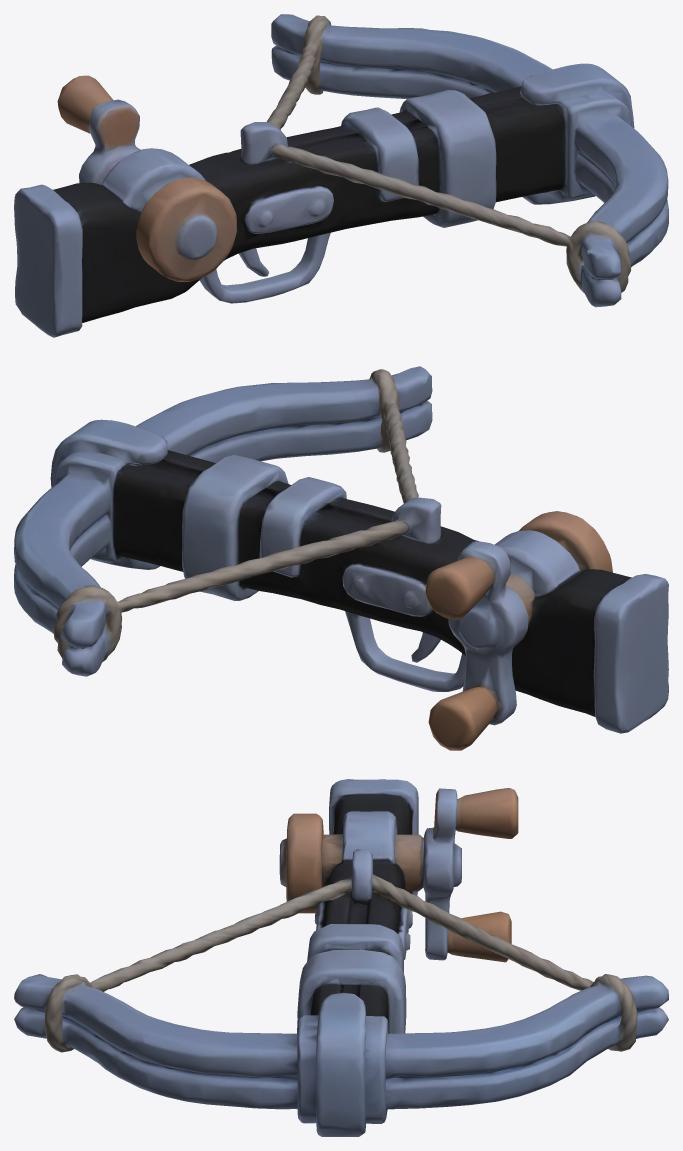
The model's file is Arm_heavy_xbow-Dl7NLNgT.glb.
3 views of the same model, one above another, from view 1: azimuth 30°, elevation 25°; view 2: azimuth 150°, elevation 25°; view 3: azimuth 270°, elevation 25° (orthographic). The views are drawn at different scales.
Visible parts, largest first — view 1: Arm_heavy_xbow; view 2: Arm_heavy_xbow; view 3: Arm_heavy_xbow.
Boxes of the visible parts, x1,y1,x2,y2 form: Arm_heavy_xbow: (14, 14, 668, 337); Arm_heavy_xbow: (14, 366, 668, 750); Arm_heavy_xbow: (14, 779, 668, 1136).
Size of the model in its own units: 1.45 by 0.4588 by 1.48.
1 material, 1 textured.
